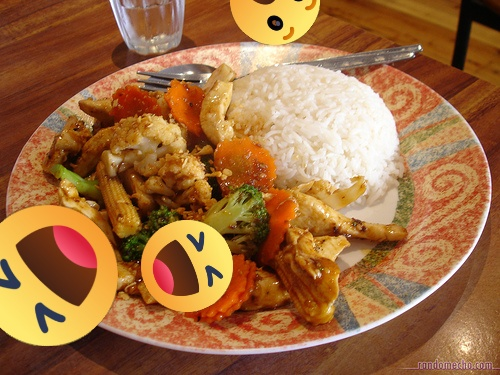haha: (0, 205, 118, 346), (141, 220, 233, 312)
wow: (230, 0, 320, 45)
